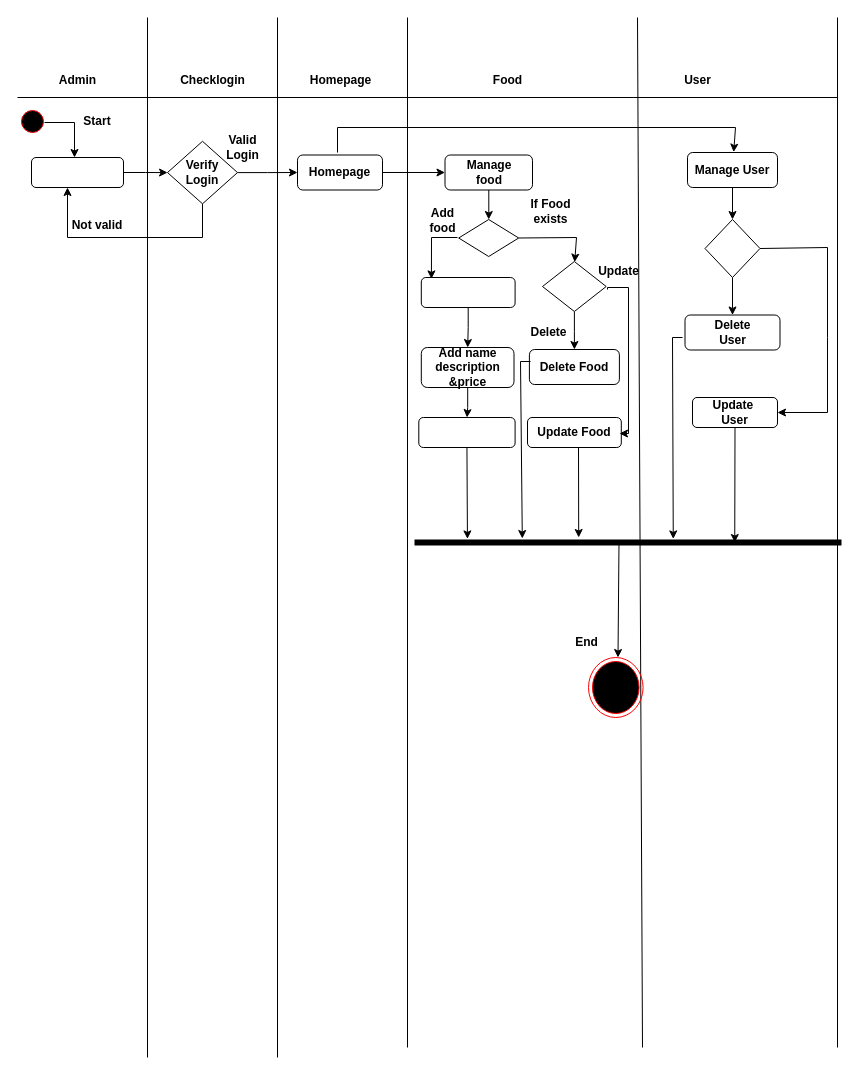
Some shapes in this 862 by 1076 pixel diagram are drawn without their labels. The shapes that lost their labels are listed below. From the top down, each one's centre as x and y in pixels, then its label:
At point 77,172: "Enter email & password".
At point 467,292: "Create Menu".
At point 466,432: "Menu Created".
